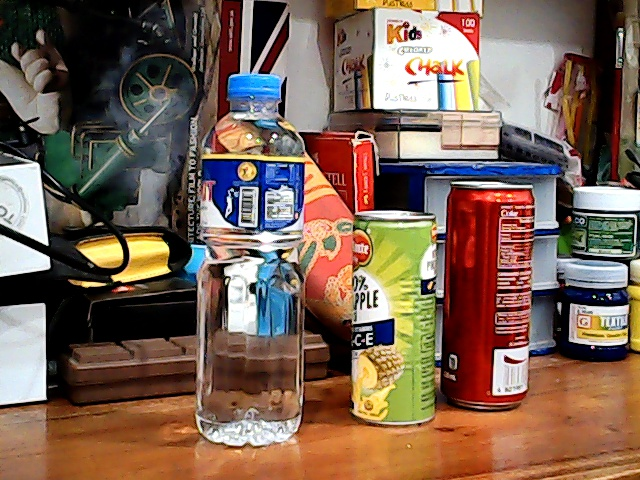Cola: (435, 163, 546, 418)
Pine Juice: (342, 197, 447, 435)
Summit Water: (192, 60, 307, 432)
